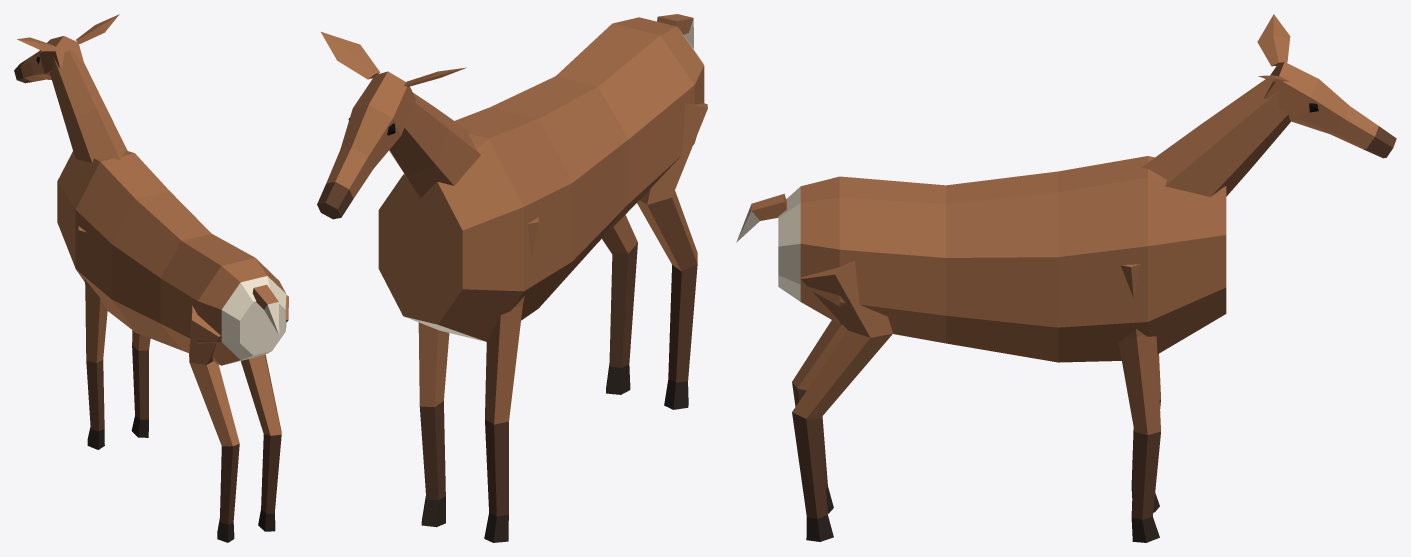
The model's file is deer.glb.
3 renders of one model, left to right at view 1: azimuth 30°, elevation 25°; view 2: azimuth 150°, elevation 25°; view 3: azimuth 270°, elevation 25°, orthographic. The views are drawn at different scales.
Parts seen in each view (by area): view 1: Body, Leg_BL, Neck, Leg_BR, Leg_FL, Leg_FR, Head, Tail, Ear_R; view 2: Body, Leg_BL, Head, Leg_FL, Neck, Leg_FR, Leg_BR, Ear_R, Tail; view 3: Body, Leg_BR, Neck, Leg_FR, Head, Leg_BL, Ear_L, Tail.
Boxes of the visible parts, <box> form: Body: <box>57,150,286,365</box>; Leg_BL: <box>189,305,239,542</box>; Neck: <box>50,50,127,162</box>; Leg_BR: <box>241,295,288,531</box>; Leg_FL: <box>78,226,107,449</box>; Leg_FR: <box>131,330,150,437</box>; Head: <box>14,36,83,83</box>; Tail: <box>252,284,279,334</box>; Ear_R: <box>76,14,119,43</box>; Body: <box>378,17,704,341</box>; Leg_BL: <box>637,103,707,409</box>; Head: <box>317,71,415,219</box>; Leg_FL: <box>484,217,538,542</box>; Neck: <box>389,93,480,198</box>; Leg_FR: <box>418,322,449,527</box>; Leg_BR: <box>602,215,637,394</box>; Ear_R: <box>321,32,380,79</box>; Tail: <box>657,14,693,48</box>; Body: <box>778,156,1226,362</box>; Leg_BR: <box>792,260,892,541</box>; Neck: <box>1141,75,1290,196</box>; Leg_FR: <box>1118,264,1160,542</box>; Head: <box>1264,62,1396,158</box>; Leg_BL: <box>792,320,847,513</box>; Ear_L: <box>1257,14,1290,66</box>; Tail: <box>736,193,786,242</box>.
Bounding box in the file's own units: 0.544 × 1.89 × 2.36.
